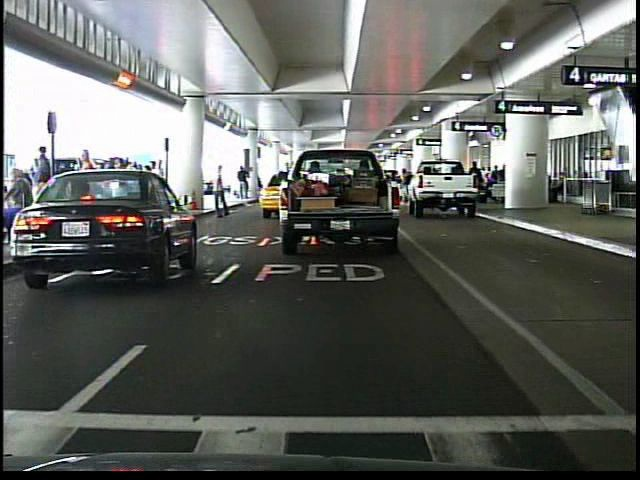person: (72, 147, 101, 232), (7, 164, 36, 224), (210, 162, 233, 223), (237, 162, 255, 198), (399, 164, 414, 205)
